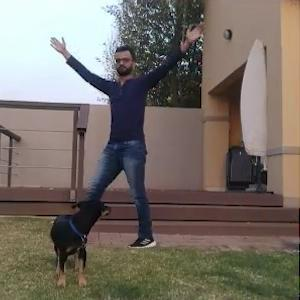takeoff: (45, 17, 210, 250)
